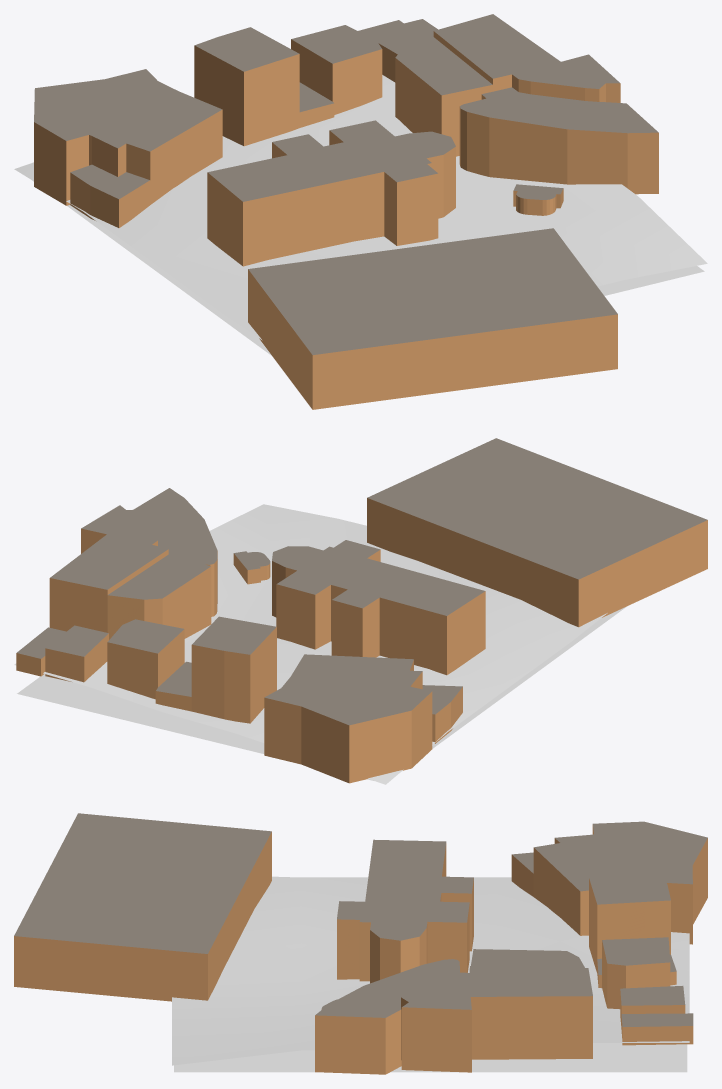
Rendered from st_francois_small_terrain.glb.
The picture shows the model from 3 angles, top to bottom: view 1: azimuth 30°, elevation 25°; view 2: azimuth 150°, elevation 25°; view 3: azimuth 270°, elevation 25°; orthographic projection. The views are drawn at different scales.
Visible parts, largest first — view 1: element, Terrain, Église Saint-François, element.008, element.004, element.009, element.006, element.005, element.001, element.007, Terrain_envelope, element.003 (+2 smaller); view 2: element, Terrain, Église Saint-François, element.008, element.006, element.009, element.005, Terrain_envelope, element.001, element.004, element.003, element.007 (+3 smaller); view 3: element, Terrain, element.006, Église Saint-François, element.008, element.004, Terrain_envelope, element.009, element.001, element.002, element.005, element.003 (+1 smaller).
Boxes of the visible parts, x1,y1,x2,y2 form: element: [248, 228, 617, 409]; Terrain: [14, 75, 707, 340]; Église Saint-François: [207, 120, 455, 266]; element.008: [34, 69, 222, 205]; element.004: [459, 87, 658, 194]; element.009: [194, 27, 299, 146]; element.006: [433, 14, 620, 102]; element.005: [395, 37, 492, 156]; element.001: [291, 25, 382, 114]; element.007: [70, 164, 150, 227]; Terrain_envelope: [32, 180, 704, 355]; element.003: [358, 20, 426, 82]; element: [367, 438, 707, 627]; Terrain: [14, 504, 607, 784]; Église Saint-François: [272, 540, 485, 675]; element.008: [264, 654, 432, 783]; element.006: [49, 505, 168, 632]; element.009: [191, 616, 276, 723]; element.005: [107, 554, 211, 639]; Terrain_envelope: [17, 606, 627, 780]; element.001: [107, 619, 184, 699]; element.004: [134, 488, 217, 616]; element.003: [45, 625, 108, 682]; element.007: [422, 685, 462, 743]; element: [14, 813, 271, 1001]; Terrain: [172, 876, 689, 1065]; element.006: [401, 966, 592, 1072]; Église Saint-François: [337, 839, 473, 983]; element.008: [533, 821, 707, 944]; element.004: [315, 959, 469, 1074]; Terrain_envelope: [174, 1043, 687, 1072]; element.009: [589, 873, 670, 972]; element.001: [602, 937, 670, 1009]; element.002: [621, 1013, 693, 1045]; element.005: [471, 949, 584, 967]; element.003: [620, 986, 685, 1029].
Size of the model in its own units: 125 by 23.02 by 166.
